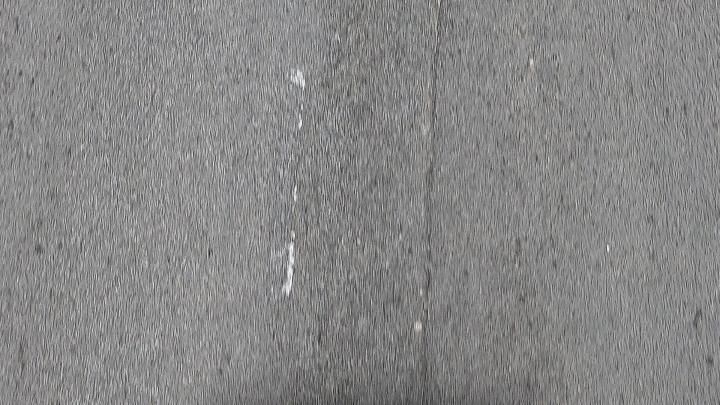Crack: (418, 1, 448, 405), (419, 0, 448, 404)
